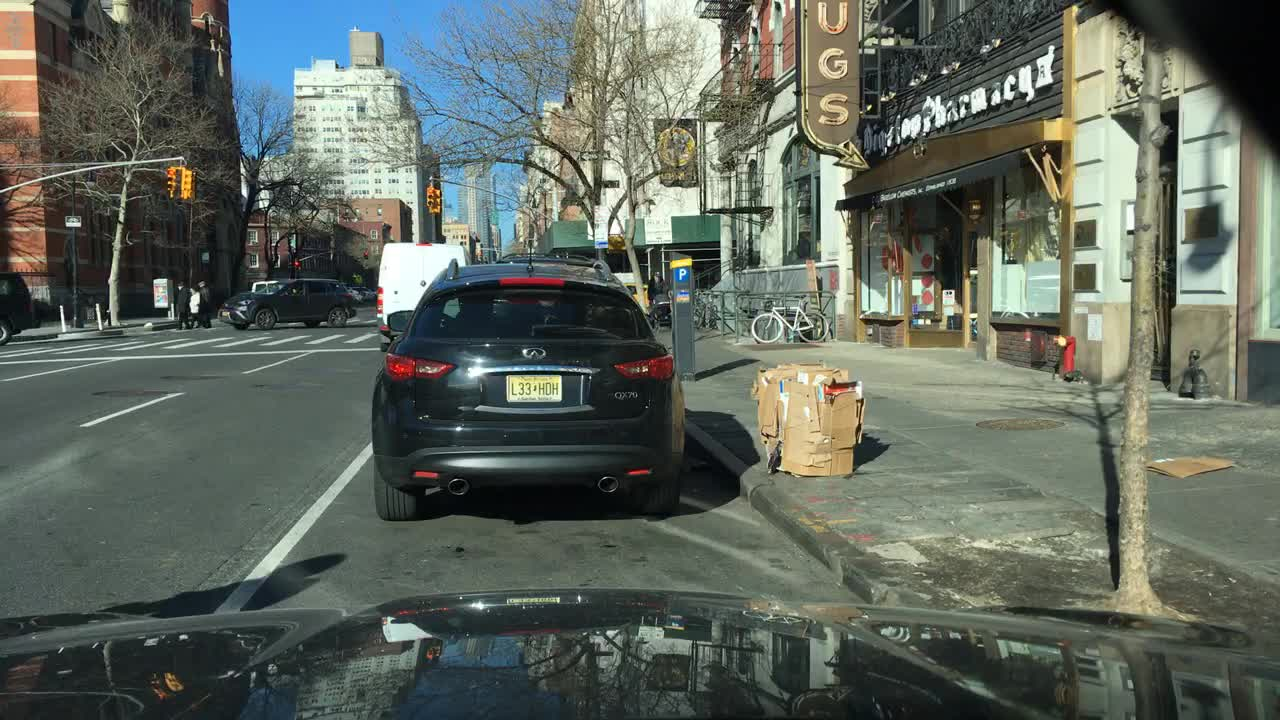bike: (751, 295, 831, 343)
car: (371, 242, 687, 521), (219, 279, 356, 326), (0, 270, 43, 350), (492, 249, 611, 272), (339, 284, 370, 303), (250, 280, 275, 293), (361, 284, 376, 299)
person: (174, 280, 195, 330), (645, 269, 667, 305), (198, 278, 213, 326), (187, 284, 202, 328)
traffic light: (182, 170, 197, 199), (431, 187, 441, 213), (165, 168, 175, 190), (426, 187, 436, 207), (291, 260, 303, 272), (363, 248, 370, 258)
traffic sign: (64, 215, 83, 227), (676, 265, 688, 281)
truck: (375, 238, 476, 354)
